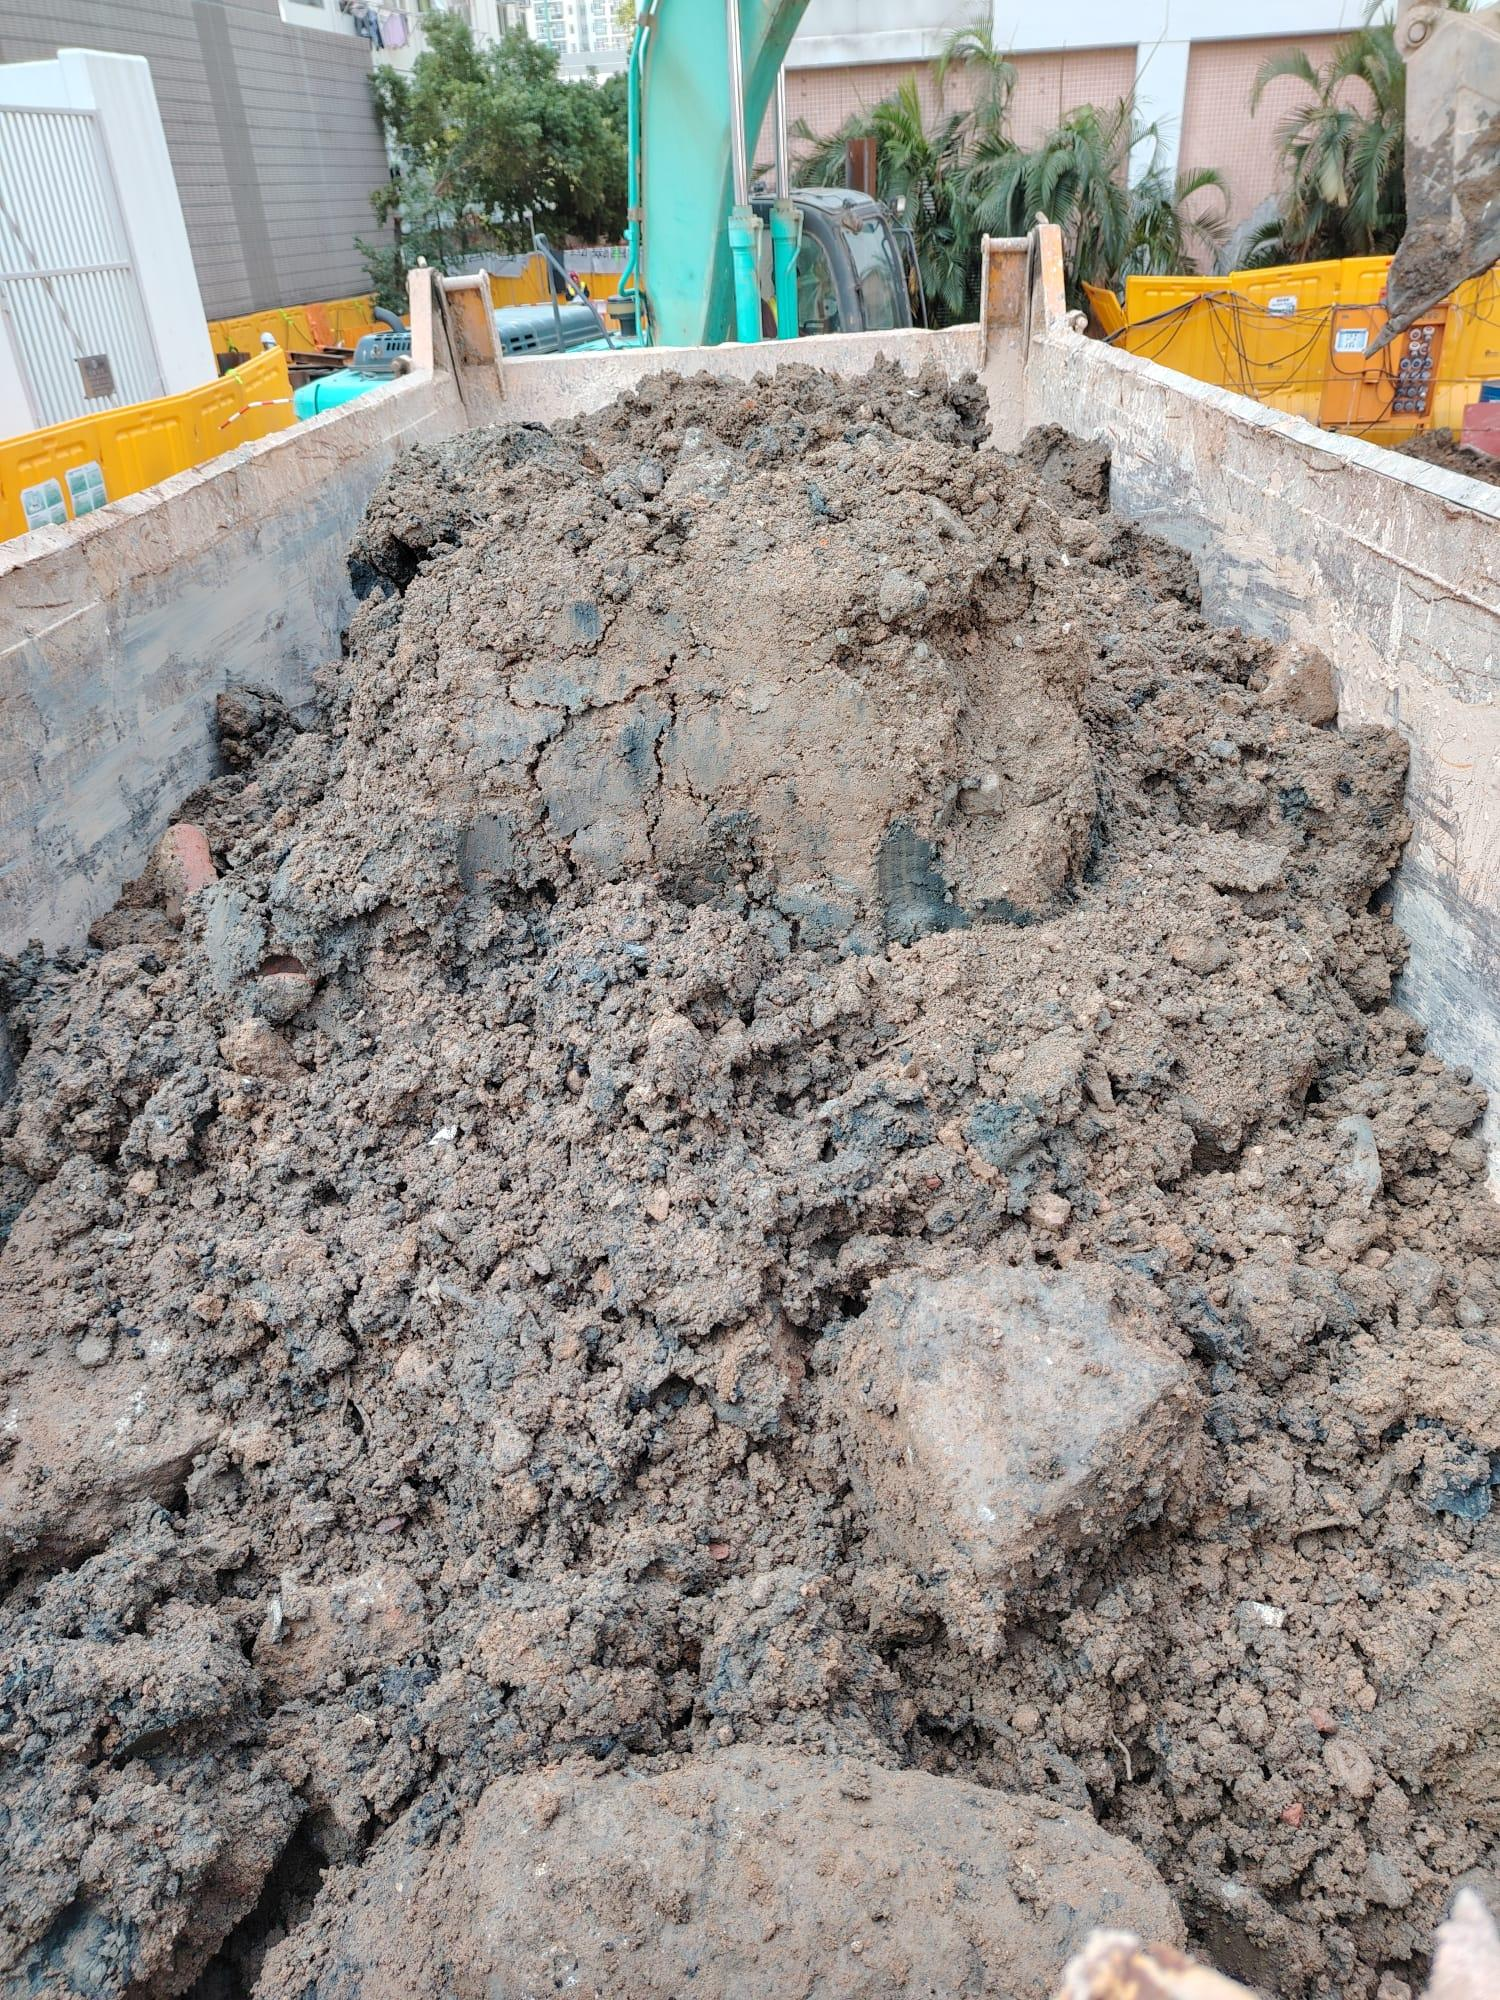wet: (20, 376, 1446, 1943)
